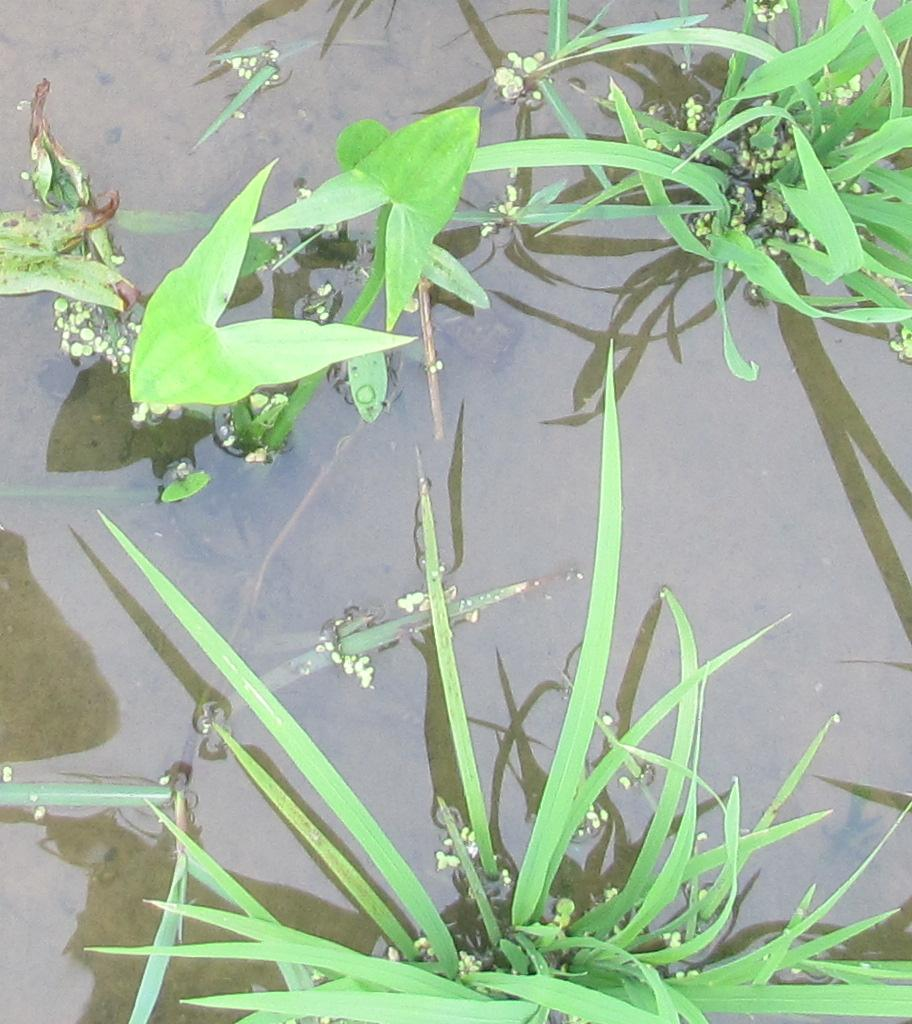Weed: (132, 177, 297, 417), (314, 100, 482, 285), (7, 186, 130, 308)
